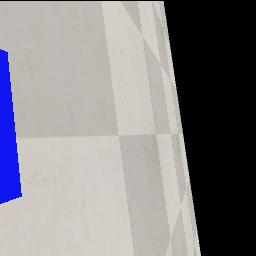box: (0, 49, 23, 204)
